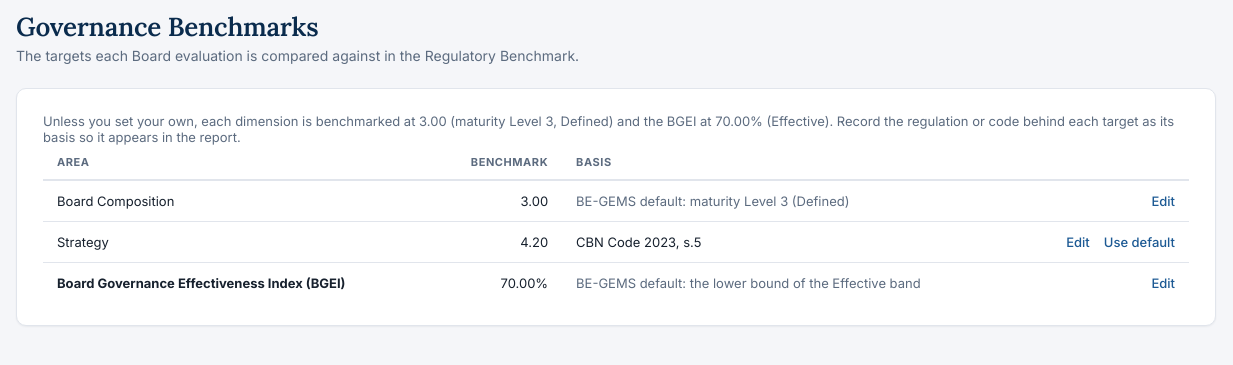
Test: BenchmarksPage › sets a dimension benchmark with its basis
This screenshot has width=1233, height=365.
Click the button "Edit" in the row of "Board Composition" at (1163, 201), box x1=1151 y1=193 x2=1175 y2=209
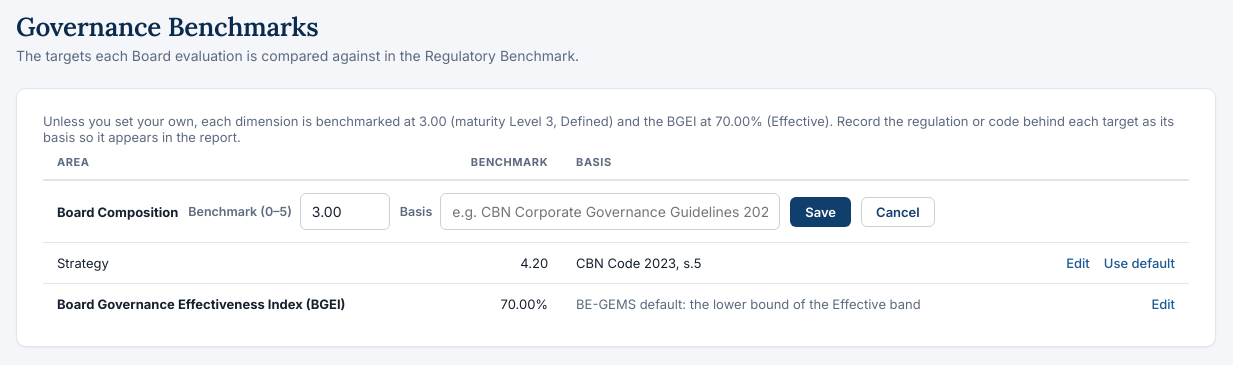
Replace the text in the number field labelled "Benchmark (0–5)" with "3.5" at (345, 212), box x1=300 y1=193 x2=390 y2=230
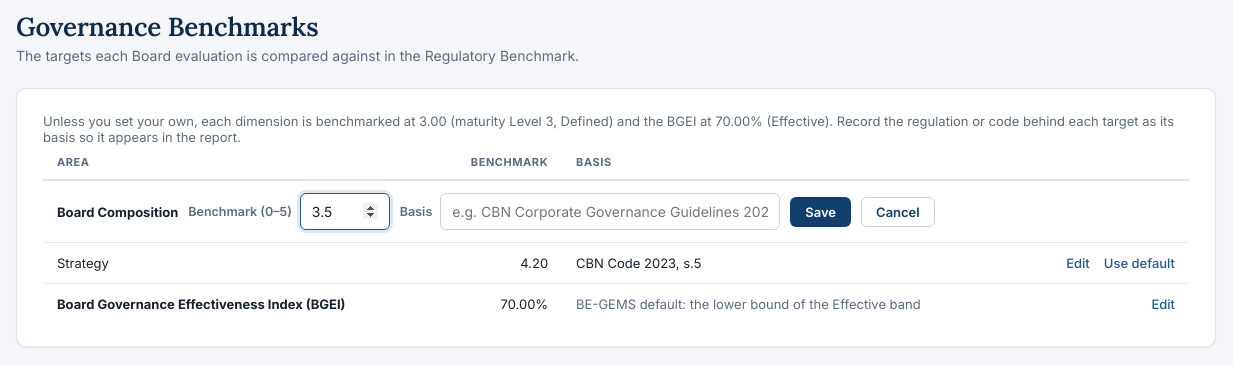
Type " SEC Code 2011 " into the field labelled "Basis" at (610, 212), box x1=440 y1=193 x2=780 y2=230
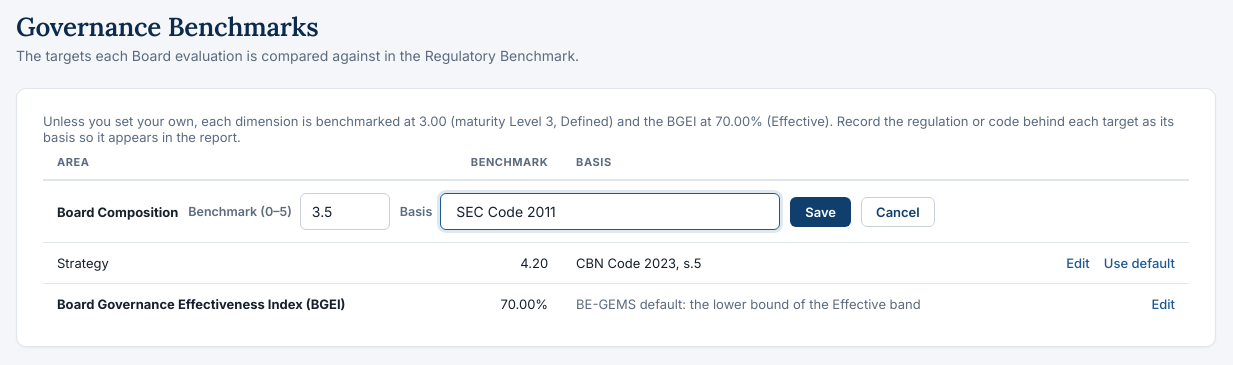
Click the button "Save" at (821, 212), box x1=790 y1=196 x2=851 y2=226
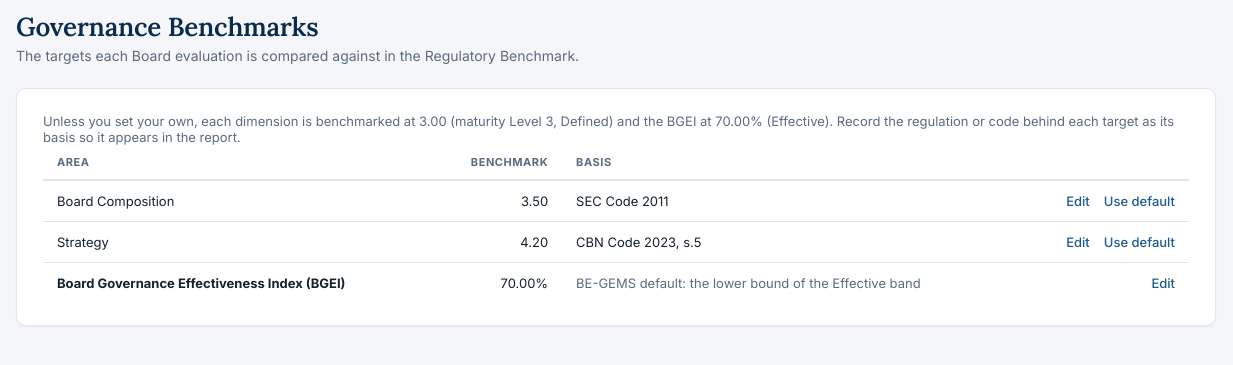
Result: the text "SEC Code 2011" is shown at x1=562 y1=180 x2=1021 y2=222
